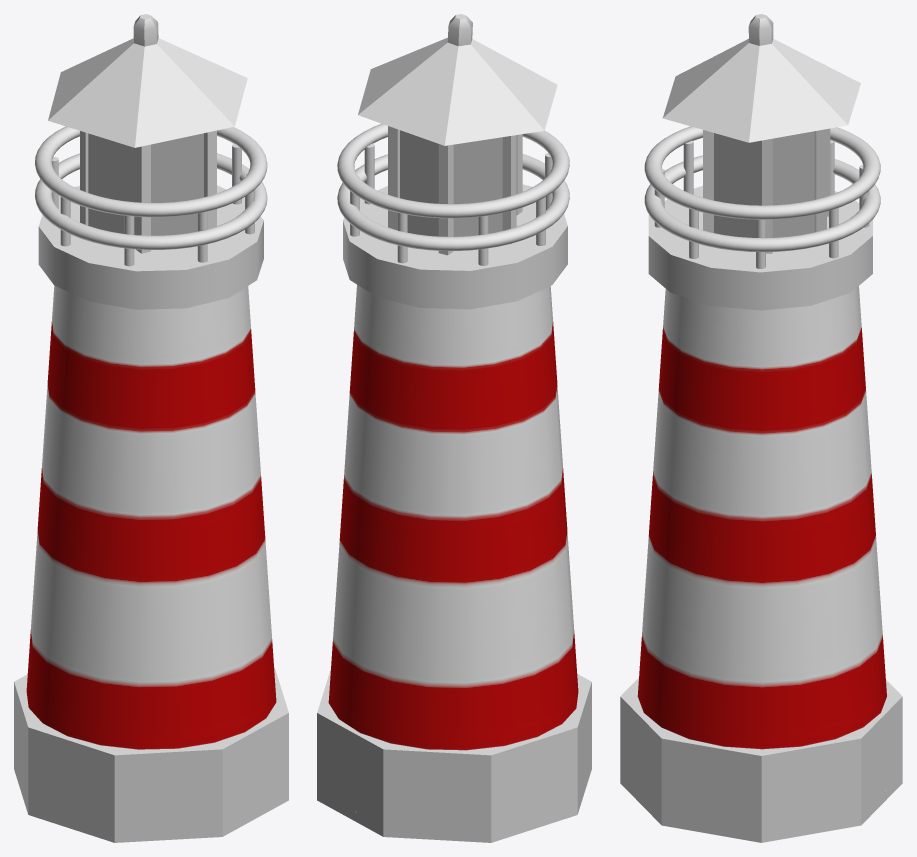
Rendered from Lighthouse.fbx.
3 renders of one model, left to right at view 1: azimuth 30°, elevation 25°; view 2: azimuth 150°, elevation 25°; view 3: azimuth 270°, elevation 25°, orthographic.
Parts seen in each view (by area): view 1: pCylinder1, pCylinder3, pCylinder5, pCylinder2, pTorus1, pasted__pTorus1, pasted__pasted__pCube4, pasted__pasted__pCube3, pasted__pasted__pCube2, pasted__pCube2, pCube1; view 2: pCylinder1, pCylinder3, pCylinder5, pCylinder2, pTorus1, pasted__pTorus1, pasted__pasted__pCube6, pasted__pasted__pCube5, pasted__pasted__pasted__pCube1, pCube1, pasted__pasted__pCube1; view 3: pCylinder1, pCylinder3, pCylinder5, pCylinder2, pTorus1, pasted__pTorus1, pasted__pasted__pCube7, pasted__pCube1, pasted__pCube2, pasted__pasted__pCube1, pasted__pCube3, pasted__pasted__pasted__pCylinder3.
Boxes of the visible parts, bbox=[...] form: pCylinder1: bbox=[26, 285, 276, 749]; pCylinder3: bbox=[14, 667, 288, 842]; pCylinder5: bbox=[48, 14, 247, 147]; pCylinder2: bbox=[38, 185, 263, 309]; pTorus1: bbox=[35, 126, 267, 217]; pasted__pTorus1: bbox=[35, 153, 267, 249]; pasted__pasted__pCube4: bbox=[151, 133, 203, 235]; pasted__pasted__pCube3: bbox=[88, 133, 135, 234]; pasted__pasted__pCube2: bbox=[136, 144, 150, 253]; pasted__pCube2: bbox=[204, 130, 216, 228]; pCube1: bbox=[80, 131, 88, 225]; pCylinder1: bbox=[328, 285, 578, 812]; pCylinder3: bbox=[317, 669, 591, 842]; pCylinder5: bbox=[358, 14, 557, 145]; pCylinder2: bbox=[343, 184, 567, 309]; pTorus1: bbox=[337, 123, 569, 218]; pasted__pTorus1: bbox=[337, 154, 569, 250]; pasted__pasted__pCube6: bbox=[453, 137, 502, 236]; pasted__pasted__pCube5: bbox=[400, 130, 438, 236]; pasted__pasted__pasted__pCube1: bbox=[438, 144, 453, 255]; pCube1: bbox=[502, 135, 516, 243]; pasted__pasted__pCube1: bbox=[388, 126, 399, 230]; pCylinder1: bbox=[637, 286, 886, 791]; pCylinder3: bbox=[620, 677, 902, 842]; pCylinder5: bbox=[663, 14, 860, 142]; pCylinder2: bbox=[648, 186, 872, 310]; pTorus1: bbox=[644, 126, 880, 219]; pasted__pTorus1: bbox=[644, 155, 880, 252]; pasted__pasted__pCube7: bbox=[714, 133, 761, 237]; pasted__pCube1: bbox=[772, 131, 814, 237]; pasted__pCube2: bbox=[703, 130, 713, 232]; pasted__pasted__pCube1: bbox=[816, 129, 826, 231]; pasted__pCube3: bbox=[762, 138, 772, 253]; pasted__pasted__pasted__pCylinder3: bbox=[683, 140, 693, 194].
Size of the model in its own units: 10.47 by 31.26 by 10.47.
3 materials, 1 textured.
